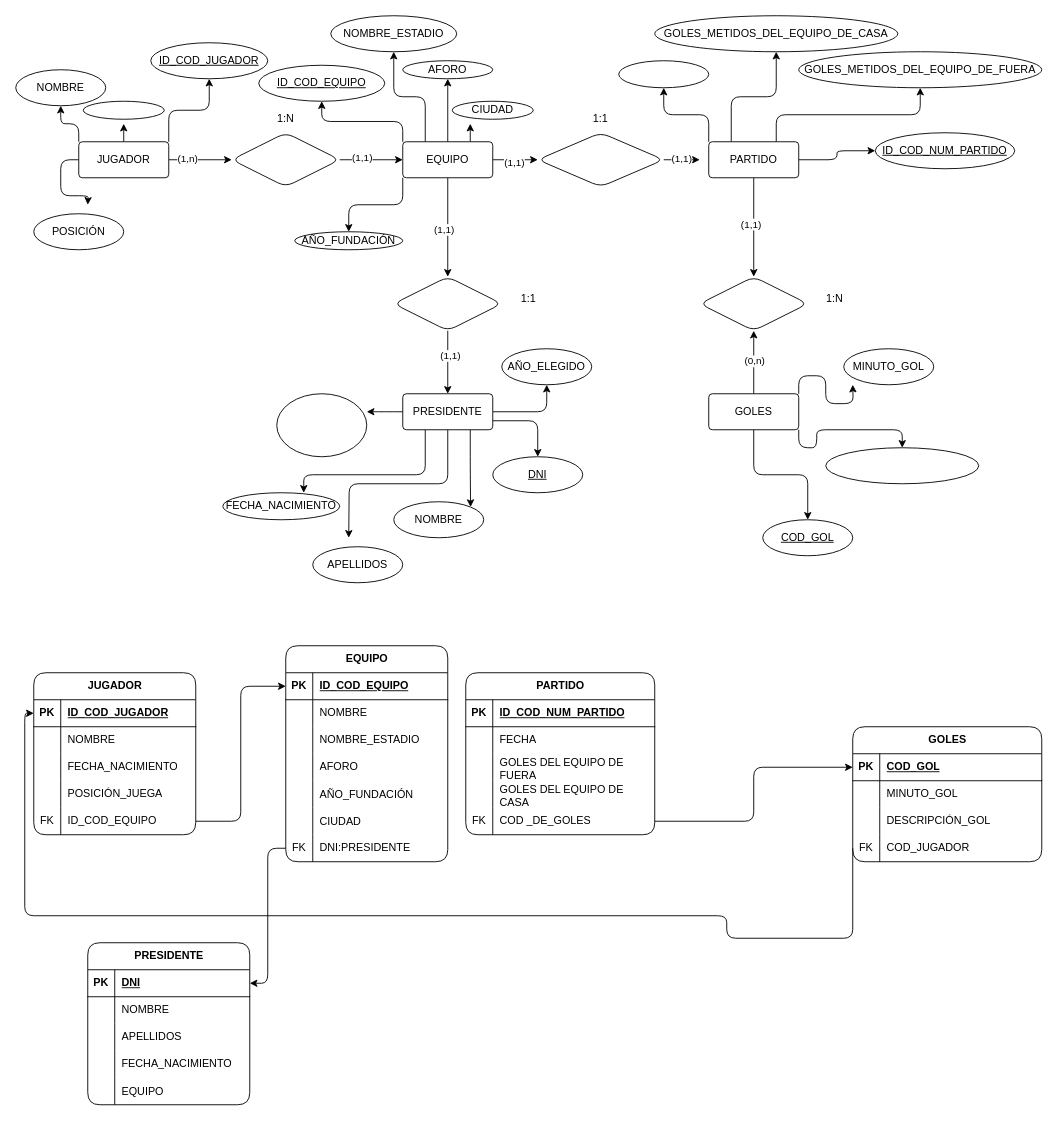
Some shapes in this 1058 by 1121 pixel diagram are drawn without their labels. The shapes that lost their labels are listed below. From the top down, each one's centre as x and y in pixels, then its label:
At (x=663, y=74): "FECHA_JUEGAN".
At (x=123, y=109): "FECHA_NAC".
At (x=285, y=159): "PERTENECE".
At (x=600, y=159): "JUEGA".
At (x=447, y=303): "TIENE".
At (x=753, y=303): "HAY".
At (x=321, y=425): "EQUIPO_DEL _QUE_ES_ PRESIDENTE".
At (x=902, y=465): "DESCRIPCIÓN_DEL_GOL".
